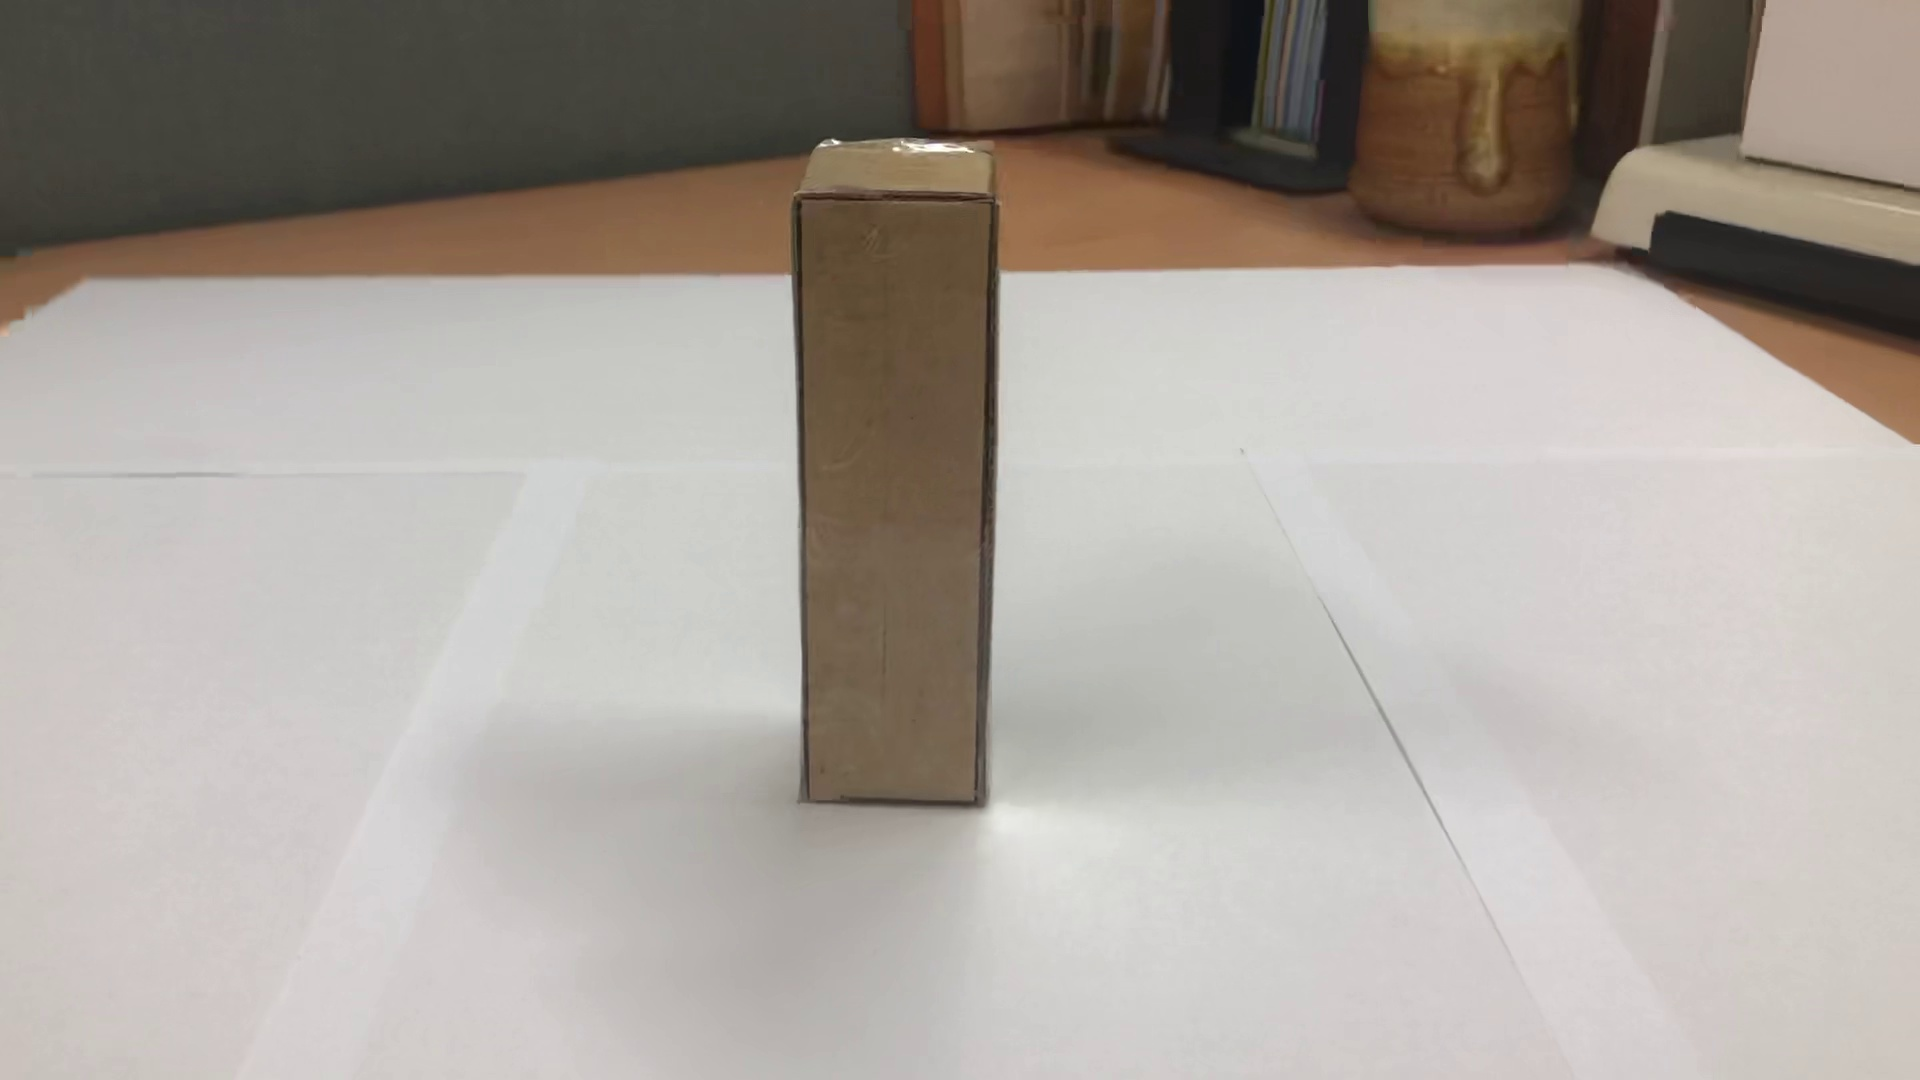box: (764, 131, 1030, 814)
